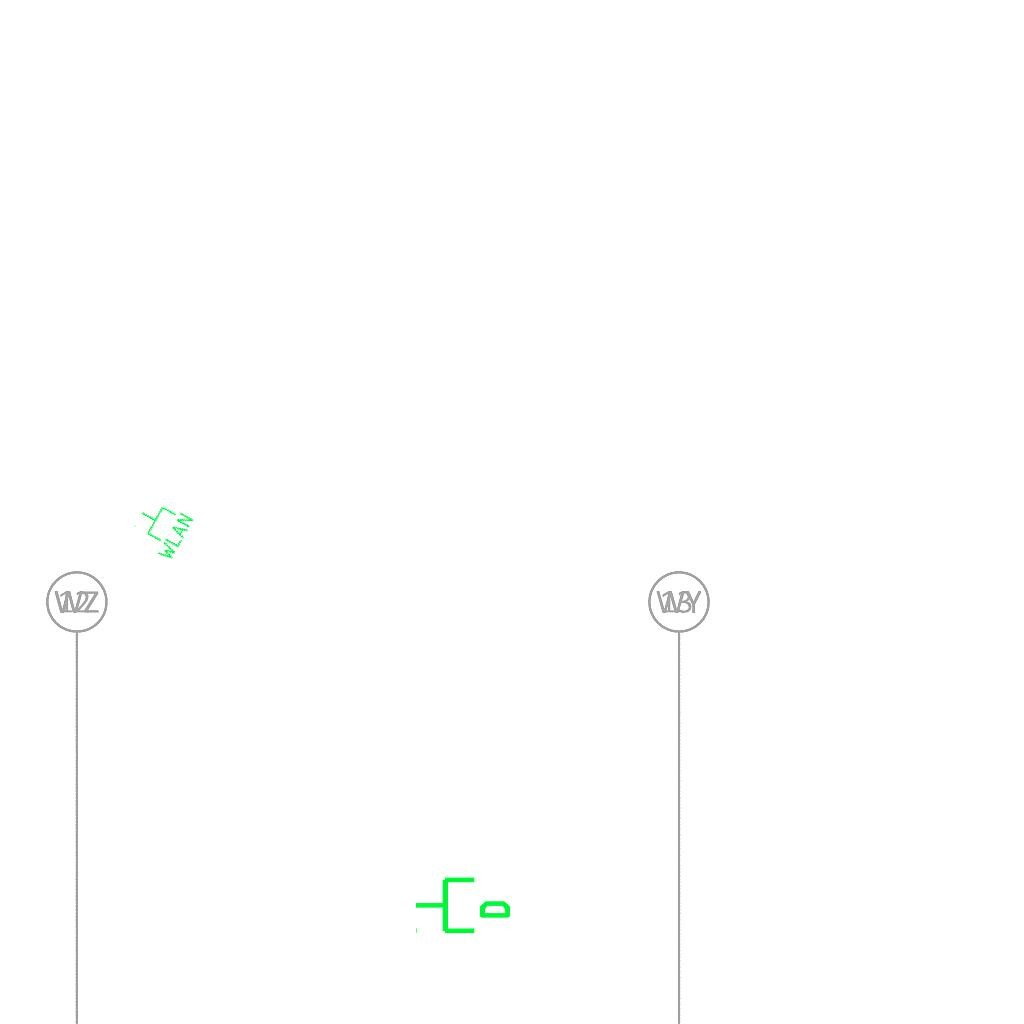Datenanschluss_einfach: (413, 869, 513, 938)
WLAN: (125, 493, 197, 565)
